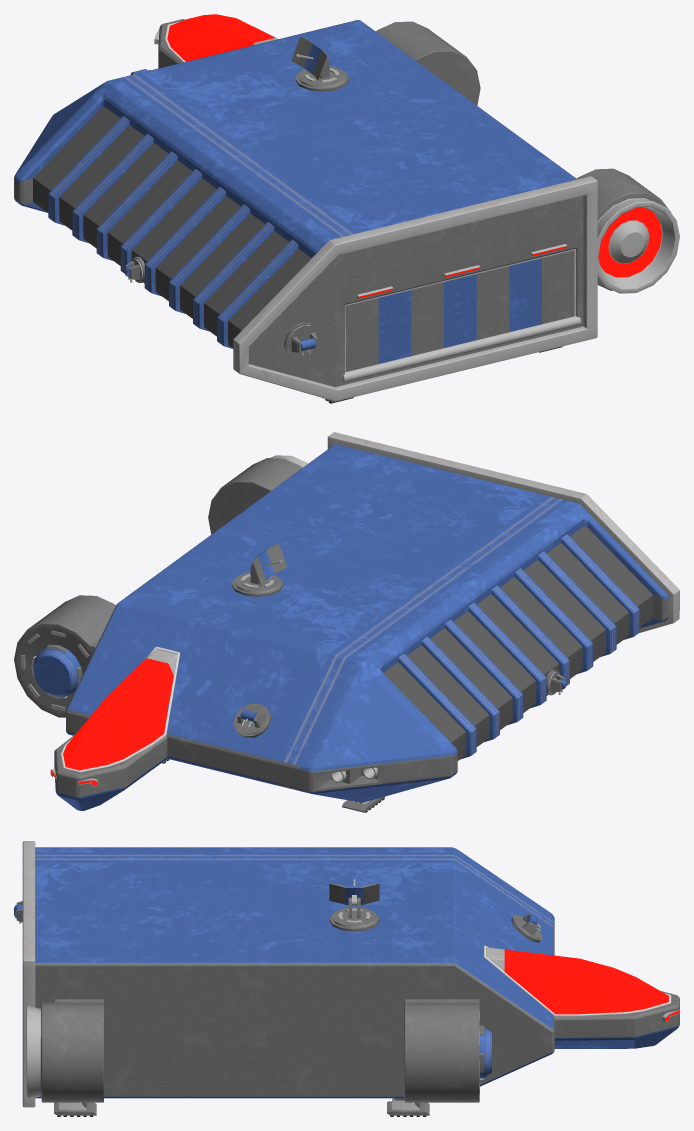
The model's file is SM_UPF-Dropship_Penna.fbx.
3 renders of one model, top to bottom at view 1: azimuth 30°, elevation 25°; view 2: azimuth 150°, elevation 25°; view 3: azimuth 270°, elevation 25°, orthographic. The views are drawn at different scales.
Parts seen in each view (by area): view 1: Body, SidePlate, BackPlate, Door, BackConnector, SidePanels, Thruster, CockpitGlass, DoorHinge, LongRangeAntenna, LargeTurret_Base.002, CockpitBody; view 2: Body, SidePlate, SidePanels, Thruster, CockpitGlass, BackConnector, CockpitBody, ThrusterDetail, LongRangeAntenna, MissileLauncher, LargeTurret_Base.001, CockpitGlass.001; view 3: Body, Thruster, CockpitGlass, CockpitBody, BackConnector, LongRangeAntenna, LandingGear, ThrusterDetail, CockpitGlass.001, LargeTurret_Base.001.
Part boxes in pixels (x1,y1,x2,y2): Body: (14,20,577,257); SidePlate: (33,107,311,348); BackPlate: (249,195,583,386); Door: (345,248,576,372); BackConnector: (233,176,597,401); SidePanels: (48,116,298,348); Thruster: (376,21,679,293); CockpitGlass: (167,14,278,61); DoorHinge: (343,316,581,382); LongRangeAntenna: (291,36,348,91); LargeTurret_Base.002: (284,322,319,359); CockpitBody: (158,19,185,68); Body: (66,444,668,802); SidePlate: (383,526,653,760); SidePanels: (398,534,639,758); Thruster: (14,455,308,717); CockpitGlass: (63,649,177,770); BackConnector: (327,432,679,632); CockpitBody: (54,734,167,810); ThrusterDetail: (21,630,88,711); LongRangeAntenna: (231,543,286,596); MissileLauncher: (313,764,381,791); LargeTurret_Base.001: (233,703,271,737); CockpitGlass.001: (60,646,179,772); Body: (35,847,554,1098); Thruster: (26,999,479,1102); CockpitGlass: (486,947,668,1014); CockpitBody: (554,991,679,1048); BackConnector: (22,841,35,1107); LongRangeAntenna: (329,879,379,931); LandingGear: (54,1098,429,1116); ThrusterDetail: (479,1011,491,1093); CockpitGlass.001: (483,945,671,1016); LargeTurret_Base.001: (511,913,542,942).
Bounding box in the file's own units: 1922 × 851 × 2660.
